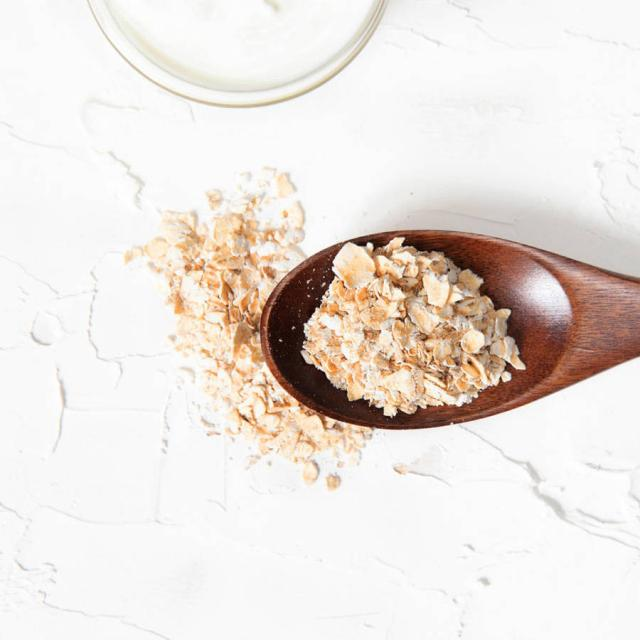avena: (302, 242, 528, 415)
